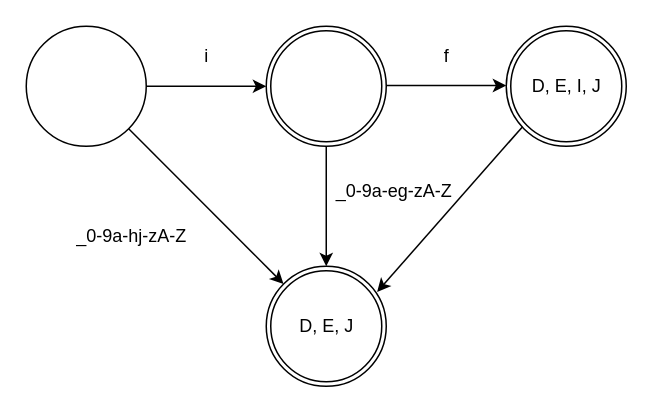
Image size: 653x413. Some labels were removed from this diagram. Here are the shapes that lost their labels. From the top down, the box of each, then its label:
(25, 25, 146, 146): INIT, A, F
(265, 25, 386, 146): D, E, H, J
